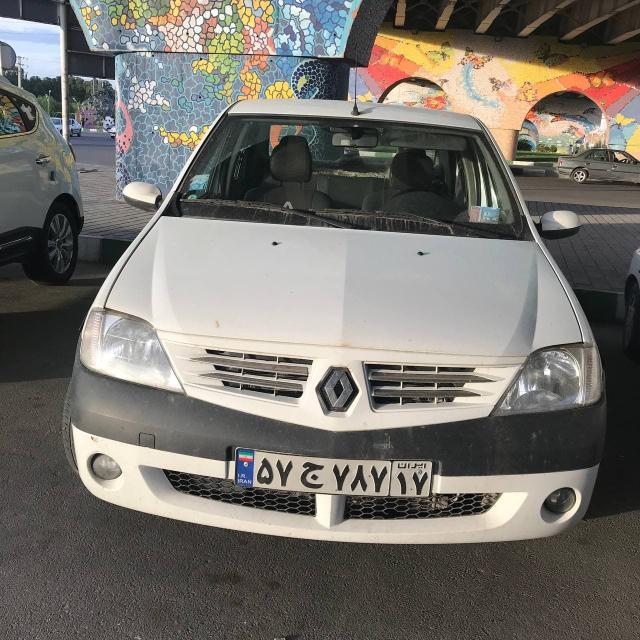Plates: (233, 448, 433, 501)
